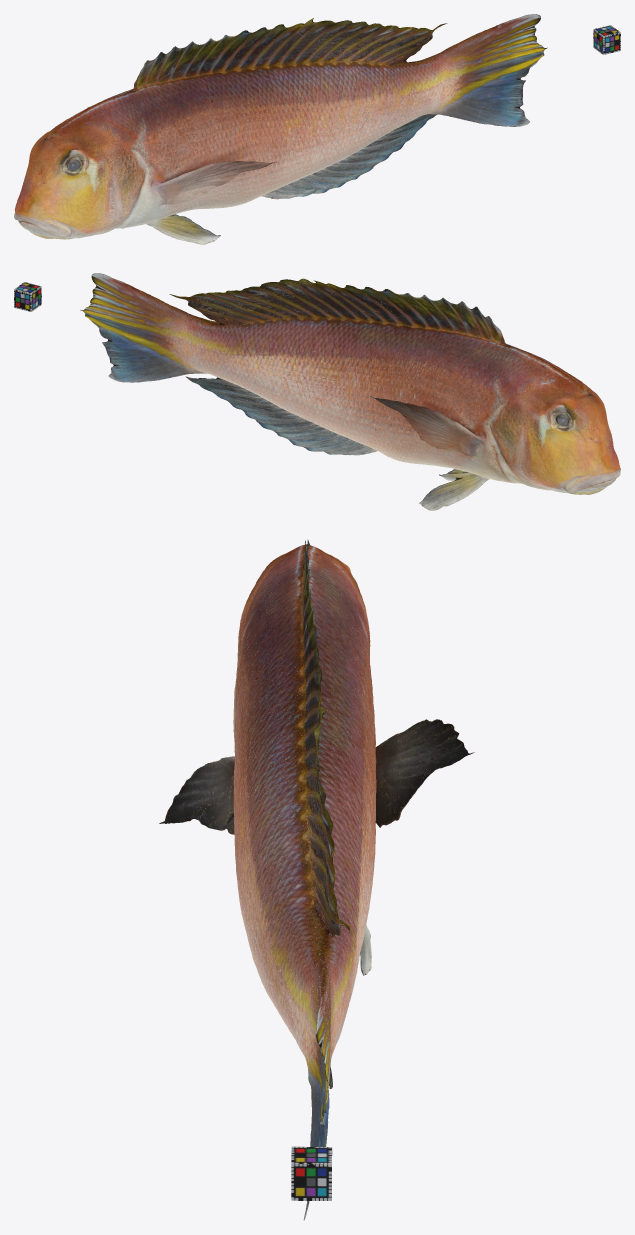
Rendered from akaamadai-92a558bbc5f3.glb.
3 views of the same model, one above another, from view 1: azimuth 30°, elevation 25°; view 2: azimuth 150°, elevation 25°; view 3: azimuth 270°, elevation 25° (orthographic). The views are drawn at different scales.
Parts seen in each view (by area): view 1: Q11880-1all_5, Cube_2; view 2: Q11880-1all_5, Cube_2; view 3: Q11880-1all_5, Cube_2.
Boxes of the visible parts, x1=… form: Q11880-1all_5: x1=14, y1=14, x2=547, y2=244; Cube_2: x1=593, y1=25, x2=620, y2=54; Q11880-1all_5: x1=80, y1=273, x2=620, y2=510; Cube_2: x1=14, y1=282, x2=41, y2=311; Q11880-1all_5: x1=159, y1=540, x2=474, y2=1220; Cube_2: x1=291, y1=1146, x2=332, y2=1200.
Size of the model in its own units: 19.22 by 6.16 by 4.39.
3 materials, 3 textured.
